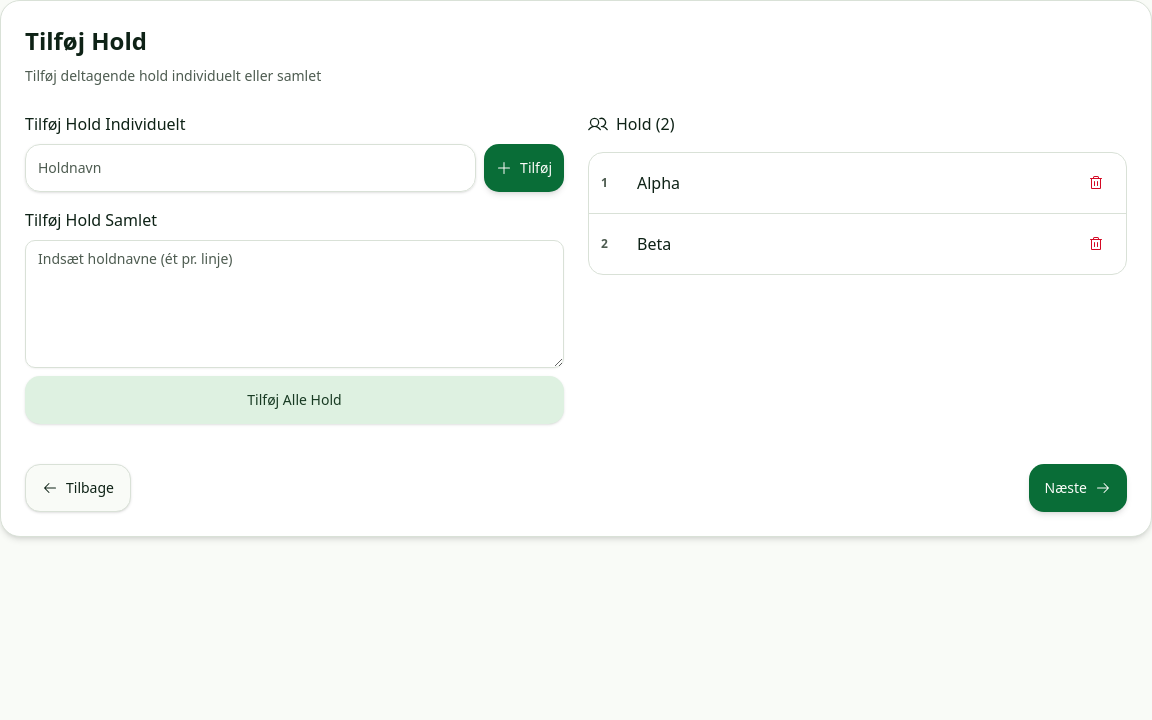
Test: Step2Teams › removes a team via its remove button
The width and height of the screenshot is (1152, 720).
Click the button without text in the row of "Alpha": (1096, 183) [1078,165,1114,201]
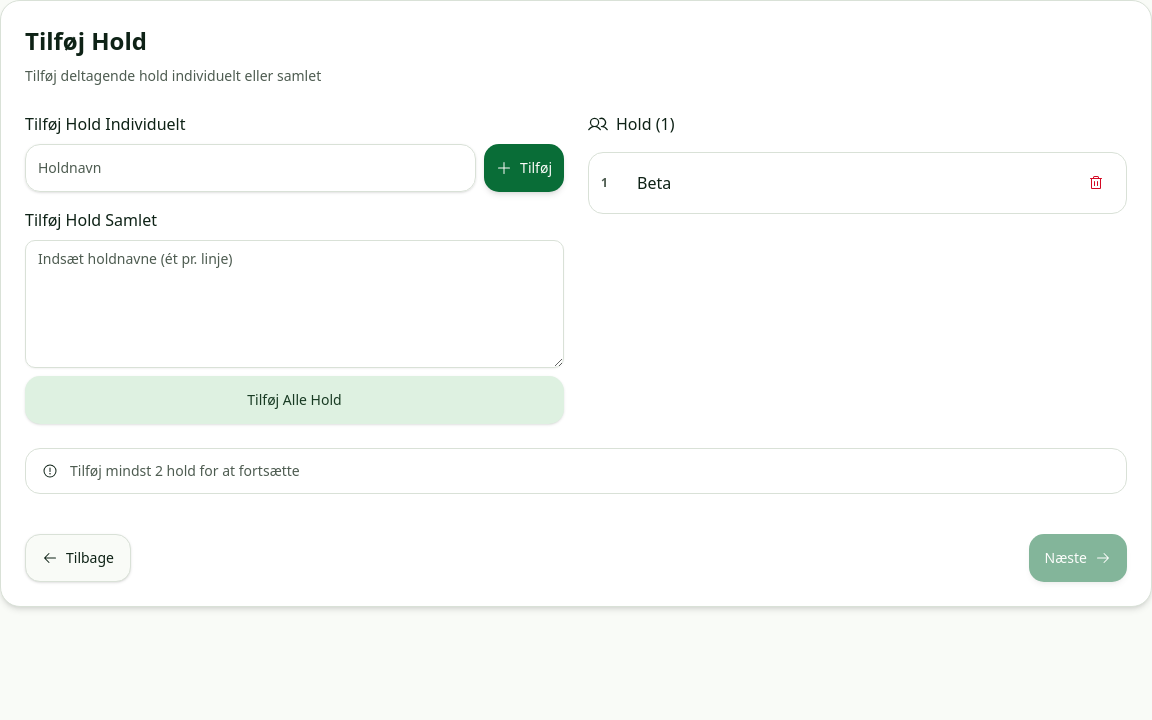
Expected: the text "Beta" is shown, [637,171,671,195]
Expected: the text "Alpha" is gone
Expected: the text "Hold (1)" is shown, [588,112,674,136]
